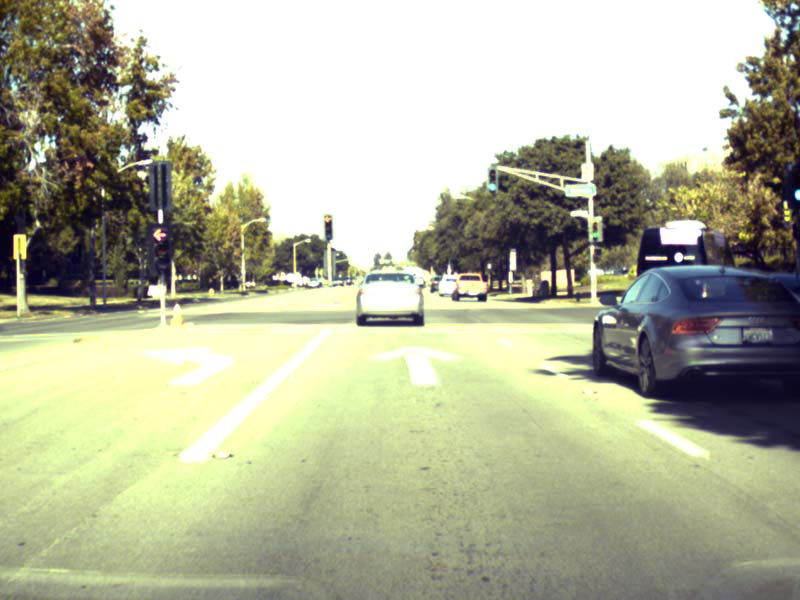Green: (489, 169, 495, 192), (592, 222, 597, 238)
Red: (150, 225, 169, 275), (324, 215, 331, 237)
